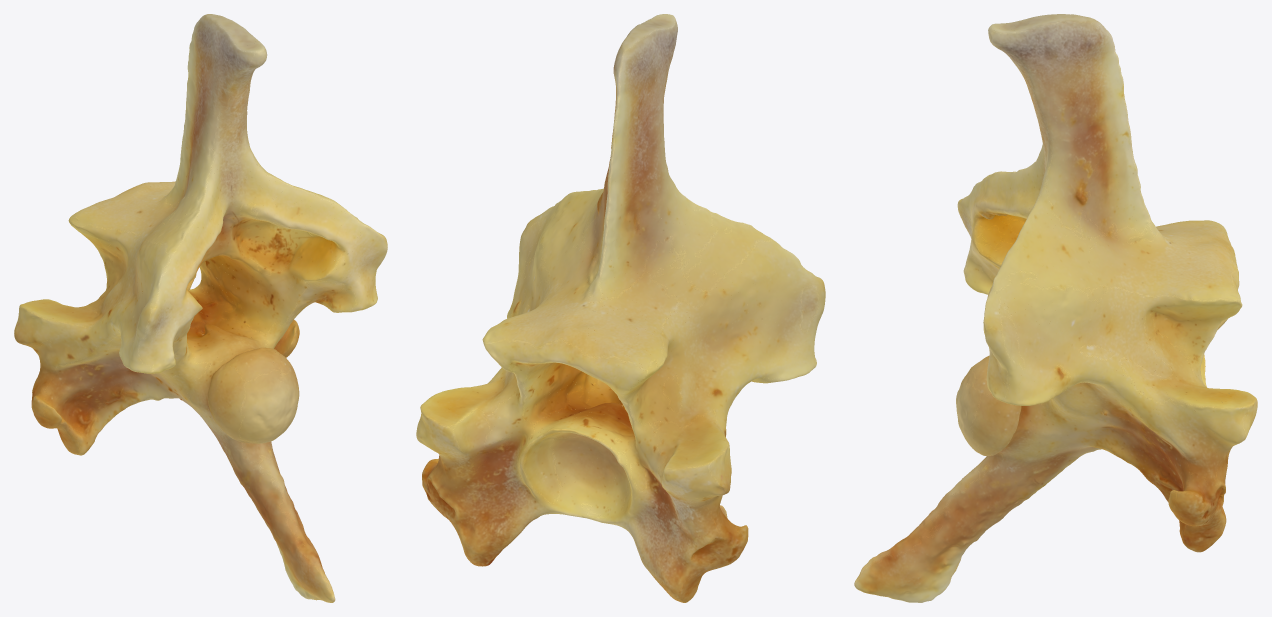
Rendered from reticulated-python.glb.
The picture shows the model from 3 angles, left to right: view 1: azimuth 30°, elevation 25°; view 2: azimuth 150°, elevation 25°; view 3: azimuth 270°, elevation 25°; orthographic projection. The views are drawn at different scales.
Visible parts, largest first — view 1: Object_2, Object_3; view 2: Object_2, Object_3; view 3: Object_2, Object_3.
Part boxes in pixels (x1,y1,x2,y2): Object_2: [14, 14, 387, 455]; Object_3: [70, 32, 387, 602]; Object_2: [416, 14, 807, 602]; Object_3: [416, 14, 825, 566]; Object_2: [971, 14, 1256, 544]; Object_3: [854, 18, 1257, 602].
Size of the model in its own units: 0.0161 by 0.0294 by 0.0185.
Materials: 1 (1 with a texture image).
